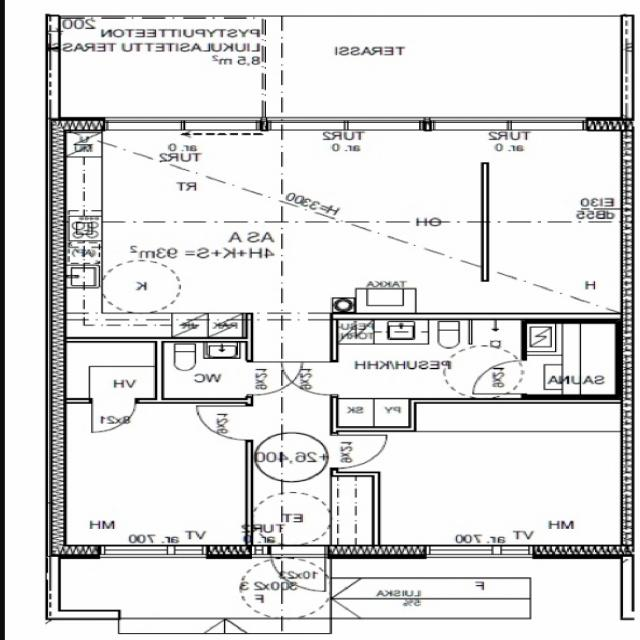door: (271, 545, 325, 594), (196, 406, 253, 440), (472, 360, 526, 393), (332, 435, 386, 468), (283, 362, 338, 394), (246, 362, 301, 394), (92, 399, 136, 432)
